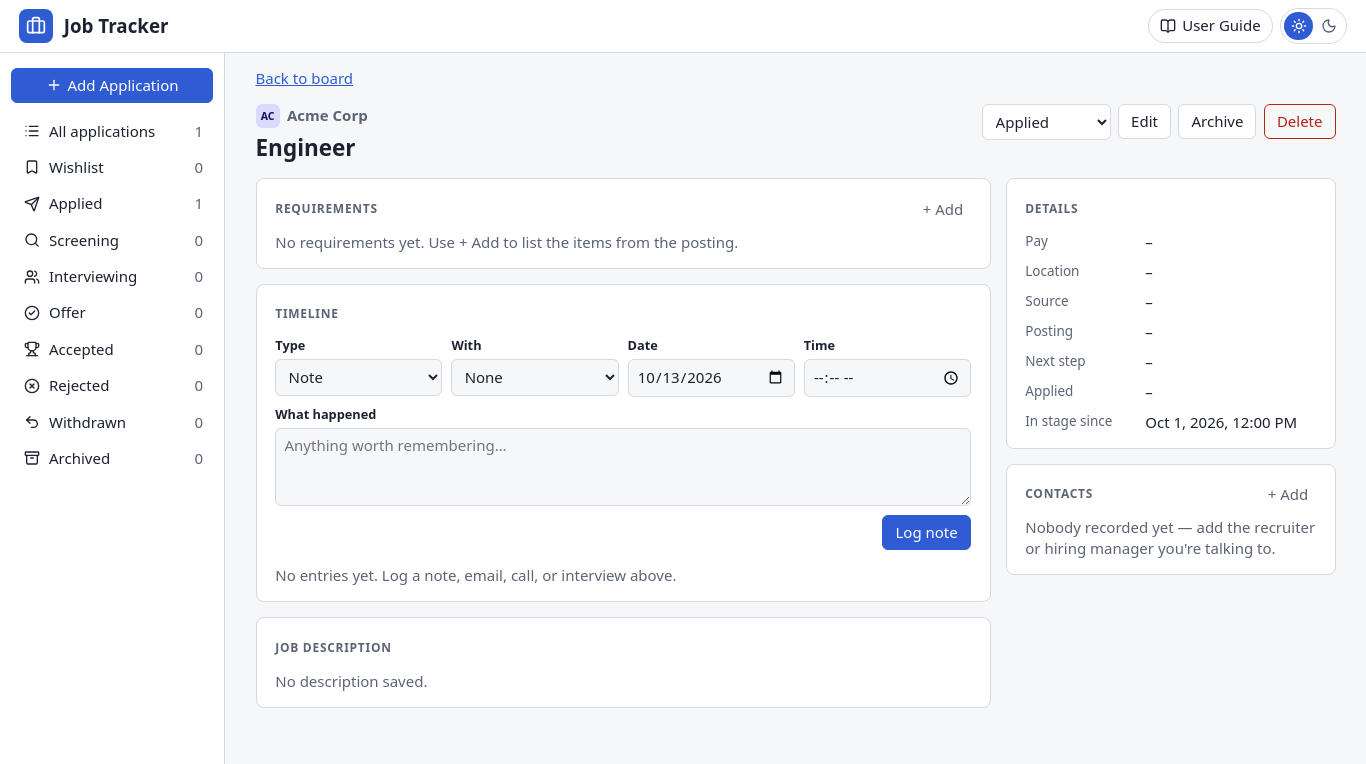
Scenario: the Requirements section › says there are no requirements, shows no counts, and offers + Add instead of an open form (AC-2, AC-6)
Check: the text "No requirements yet. Use + Add to list the items from the posting." is shown, box [275, 232, 738, 252]
Click the button with aria-label "Add requirement" at (943, 209), box [915, 195, 971, 223]
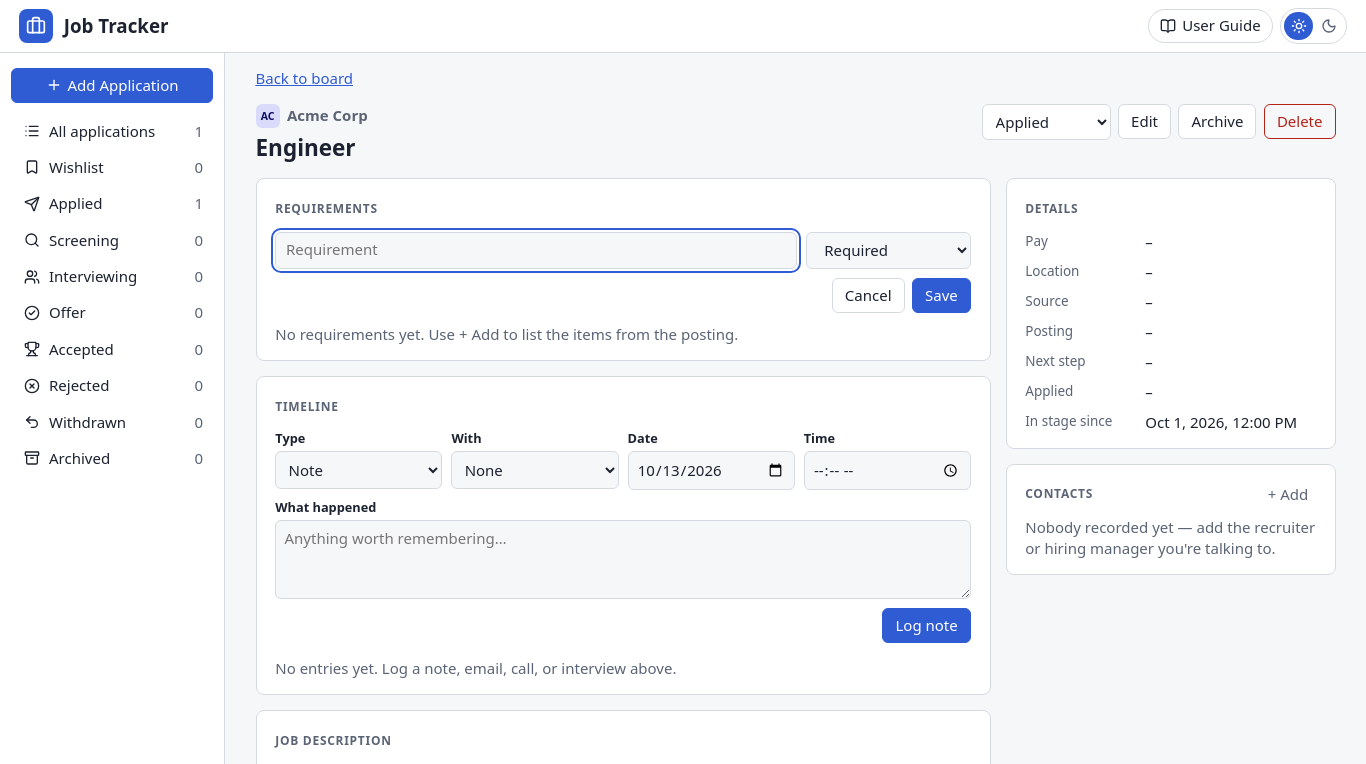
Check: the dropdown named "Kind" shows "Required", box [806, 232, 971, 269]
